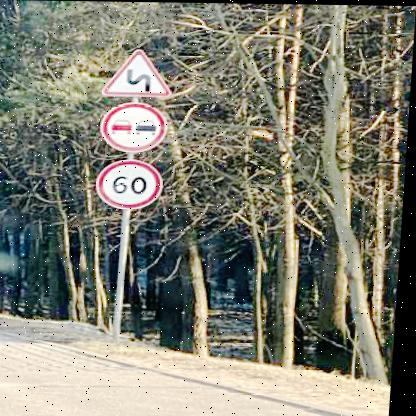Speed Limit -60-: (97, 154, 168, 215)
